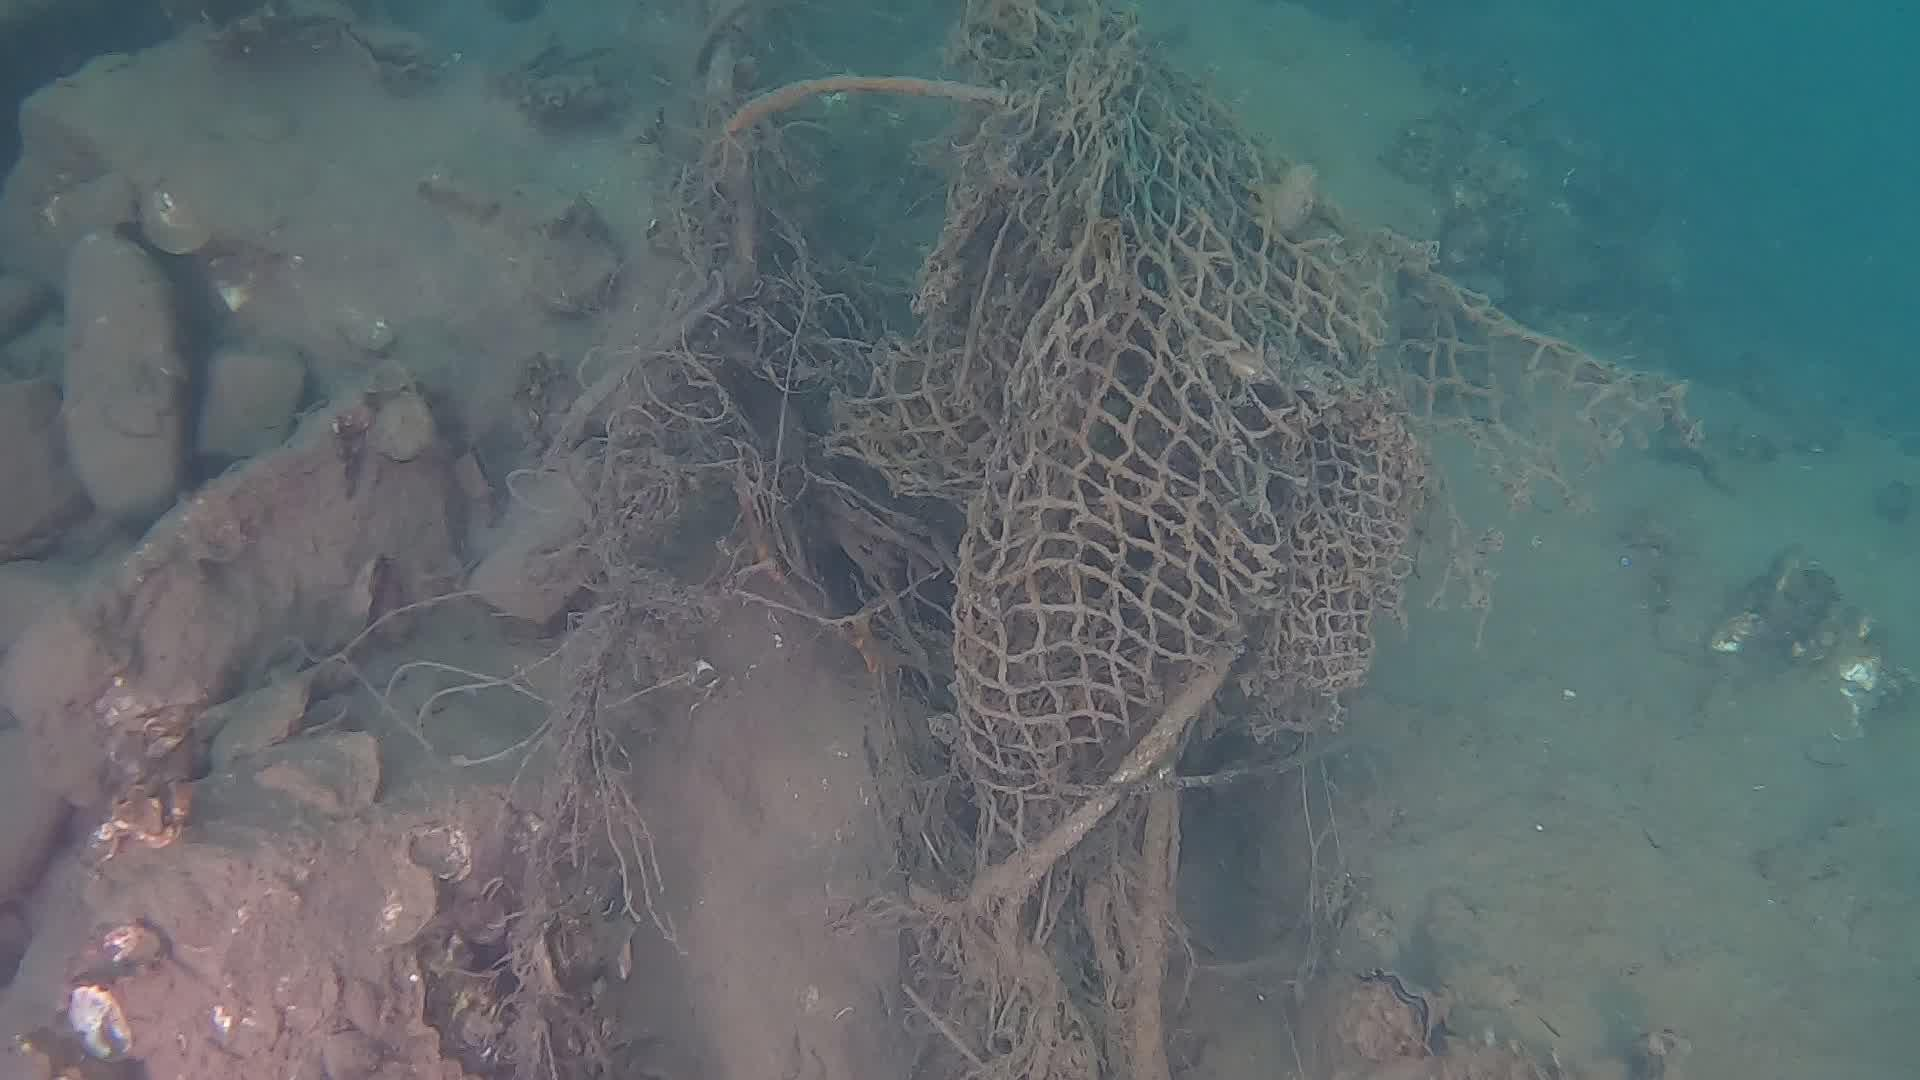fish net: (841, 0, 1415, 783)
